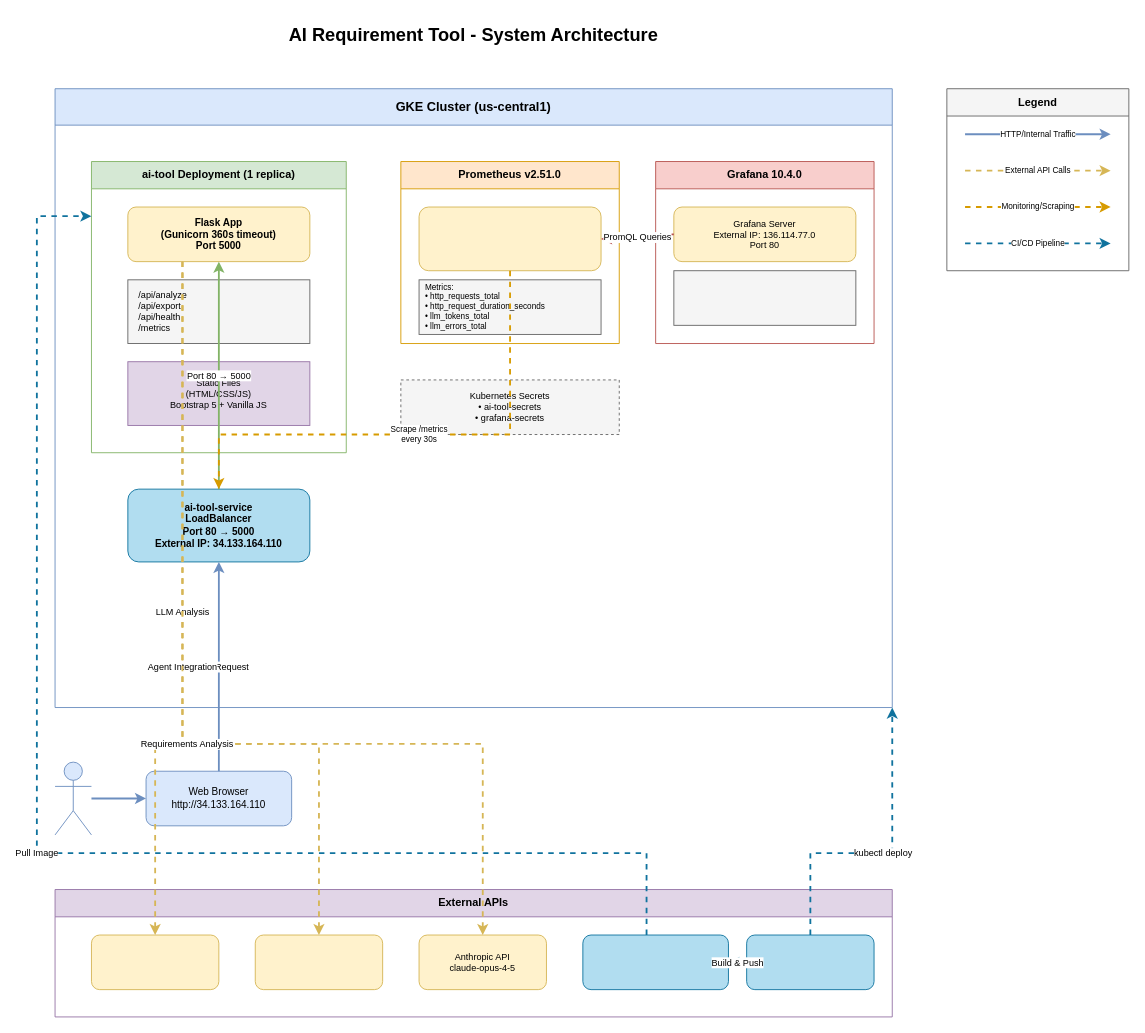
Some shapes in this 1145 by 1033 pixel diagram are drawn without their labels. Here are the shapes that lost their labels. From the top down, the centre of each, then its label:
the point at 509,238: Prometheus Server Scrapes every 30s Internal: prometheus-service:9090
the point at 764,297: Dashboard: ai-tool-prometheus 5 PromQL panels
the point at 72,798: User
the point at 155,962: OpenAI API gpt-5.5
the point at 318,962: Coze Agent cozepy SDK v0.20.0 Timeout: 300s
the point at 655,962: Artifact Registry us-central1-docker.pkg.dev
the point at 810,962: GitHub Actions CI/CD Pipeline
